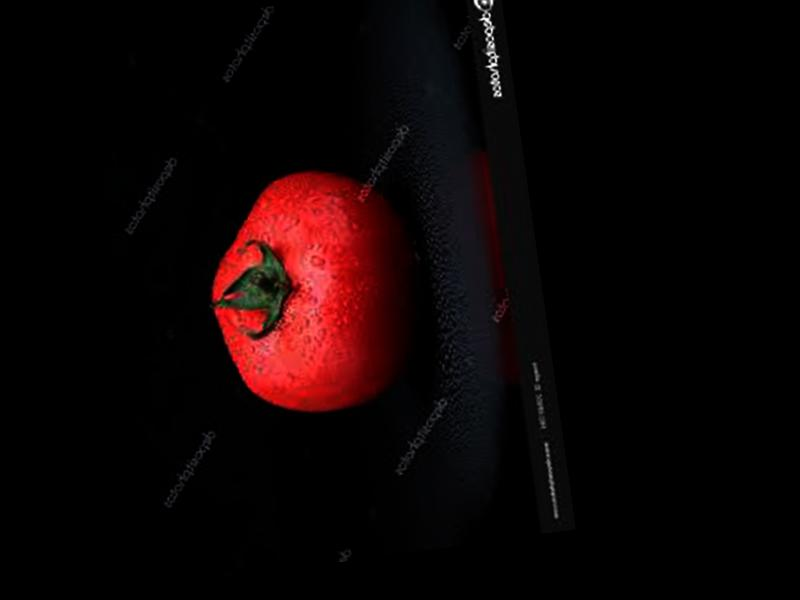Tomato: (193, 156, 436, 427)
